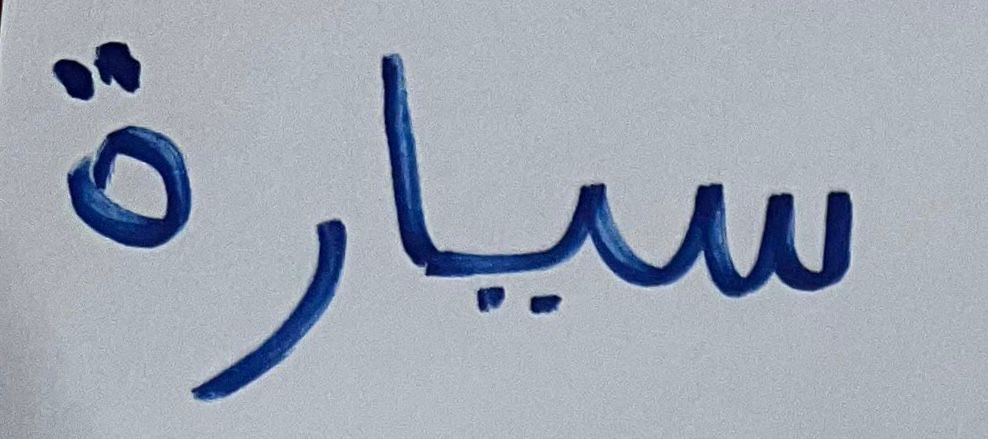sad: (208, 180, 357, 407)
sheen: (639, 148, 869, 319)
thal: (34, 26, 202, 261), (365, 22, 440, 289)
zah: (445, 149, 630, 327)
